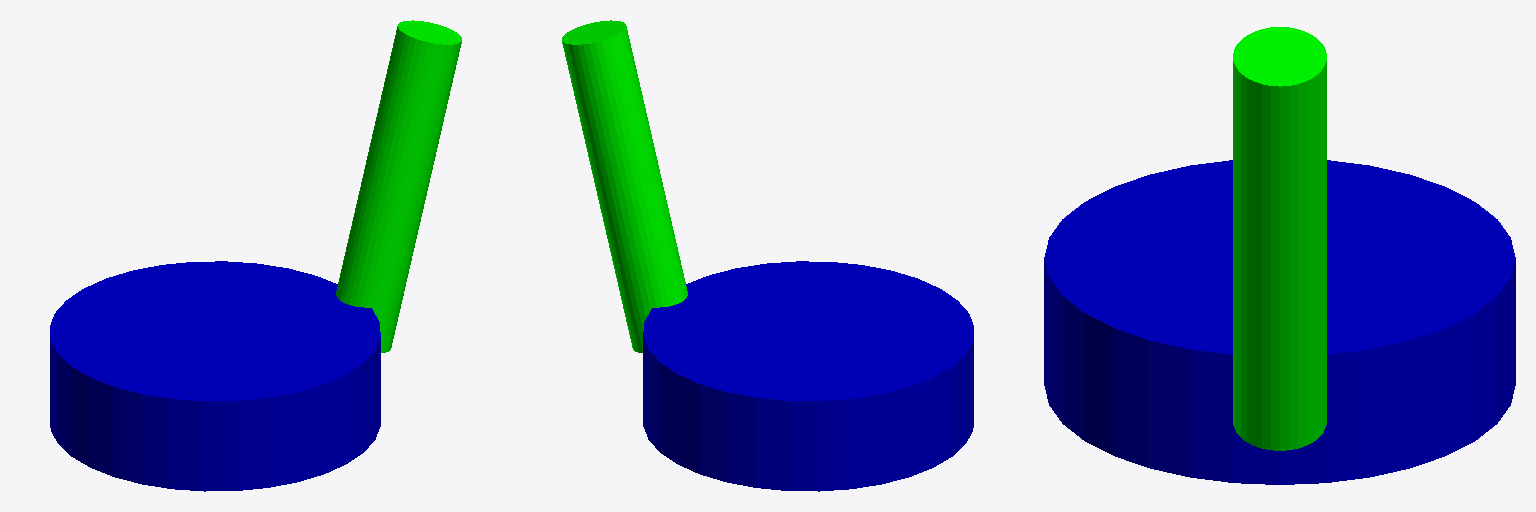
URDF robot description (testing):
<?xml version="1.0"?>
<robot name="testing">

    <link name="palm">
        <inertia>
            <mass value='3.0'/>
            <origin xyz='0 0 0'/>
            <inertia ixx="1.0" ixy="0.0" ixz="0.0" iyy="1.0" iyz="0.0" izz="1.0"/>
        </inertia>
        <visual>
            <geometry>
                <cylinder length="0.03" radius="0.05"/>
            </geometry>
            <material name="blue">
                <color rgba="0 0 .8 1"/>
            </material>
        </visual>
        <collision>
            <origin rpy="0 0 0 " xyz="0 0 0"/>
            <geometry>
                <cylinder length="0.04" radius="0.015"/>
            </geometry>
            <contact_coefficients kd="1.0" kp="10000.0" mu="1.5"/>
        </collision>
    </link>

    <link name='finger_1'>
        <inertia>
            <mass value='.1'/>
            <inertia ixx="0.01" ixy="0" ixz="0" iyy="0.01" iyz="0" izz="0.01"/>
        </inertia>
        <visual>
            <origin xyz='0 0 .05'/>
            <geometry>
                <cylinder length='.1' radius='.01'/>
            </geometry>
            <material name='green'>
                <color rgba='0 1 0 1'/>
            </material>
        </visual>
        <collision>
            <origin rpy="0 0 0 " xyz="0 0 0"/>
            <geometry>
                <cylinder length='.1' radius='.01'/>
            </geometry>
            <contact_coefficients kd="1.0" kp="10000.0" mu="1"/>
        </collision>
    </link>

    
    
    <joint name='f1_joint' type="revolute">
        <origin xyz=".05 0 .0" rpy="0 .25 0"/>
        <parent link='palm'/>
        <child link='finger_1'/>
        <axis xyz='0 1 0'/>
        <dynamics damping='100.0' friction='1.0'/>
        <limit effort='30' lower='-.6' upper='.25' velocity='2.0'/>
    </joint>



</robot>

--- Render facts (derived) ---
The picture shows the robot from 3 angles, left to right: view 1: azimuth 30°, elevation 25°; view 2: azimuth 150°, elevation 25°; view 3: azimuth 270°, elevation 25°; orthographic projection.
Robot: testing — 2 links, 1 joints (1 revolute); root link palm; default pose: all joints at 0.
Links seen in each view (by area): view 1: palm, finger_1; view 2: palm, finger_1; view 3: palm, finger_1.
Boxes of the visible links, box(x1,y1,x2,y2) form: palm: box(50, 261, 380, 491); finger_1: box(336, 20, 461, 352); palm: box(643, 261, 973, 491); finger_1: box(562, 20, 687, 352); palm: box(1044, 160, 1515, 484); finger_1: box(1233, 27, 1326, 450).
Bounding box of the posed robot: 0.1344 × 0.1 × 0.1144 m (x, y, z).
Geometry: primitives only (box / cylinder / sphere), no mesh files.